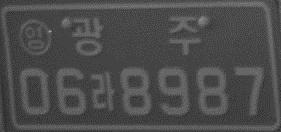0: (18, 67, 51, 116)
6: (55, 66, 88, 116)
7: (233, 65, 264, 117)
8: (195, 65, 229, 116), (119, 66, 152, 116)
9: (157, 66, 191, 116)
광주_D: (72, 16, 200, 55)
라: (89, 70, 115, 112)
영: (18, 17, 52, 57)
